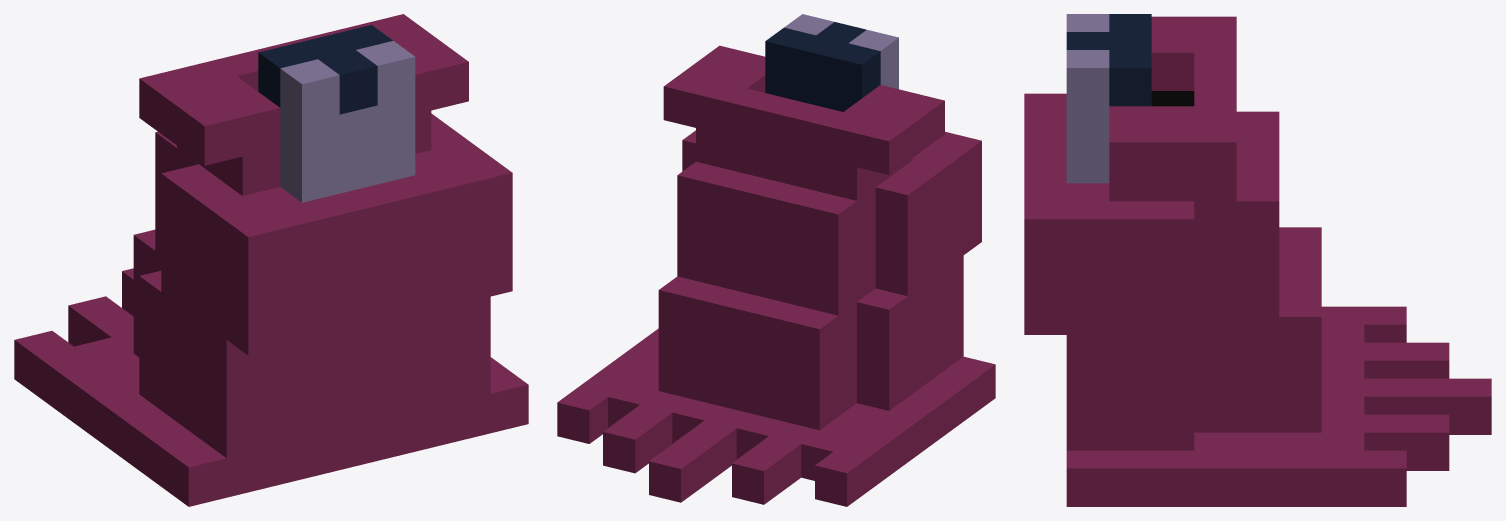
The model's file is vampire_action_1.obj.
The picture shows the model from 3 angles, left to right: view 1: azimuth 30°, elevation 25°; view 2: azimuth 150°, elevation 25°; view 3: azimuth 270°, elevation 25°; orthographic projection. The views are drawn at different scales.
Bounding box in the file's own units: 0.9 × 1 × 1.1.
1 material, 1 textured.
